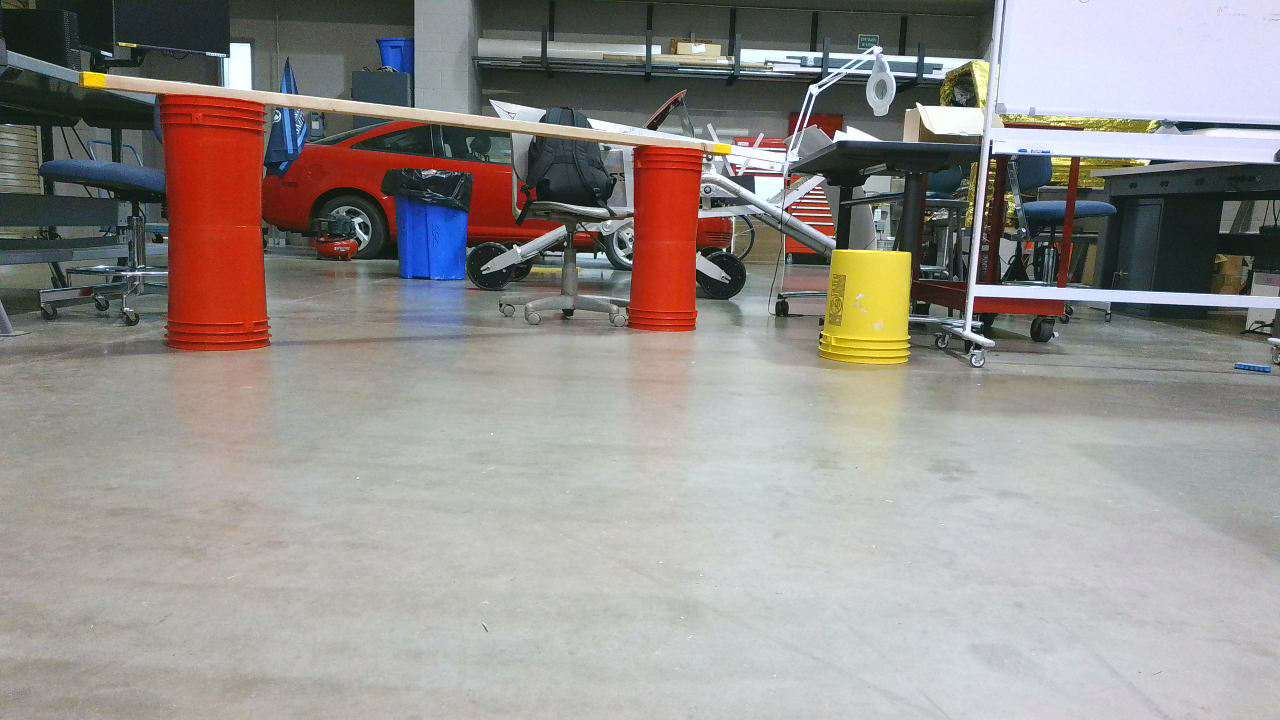red_bucket_arch: (166, 85, 711, 356)
yellow_bucket: (823, 257, 916, 367)
